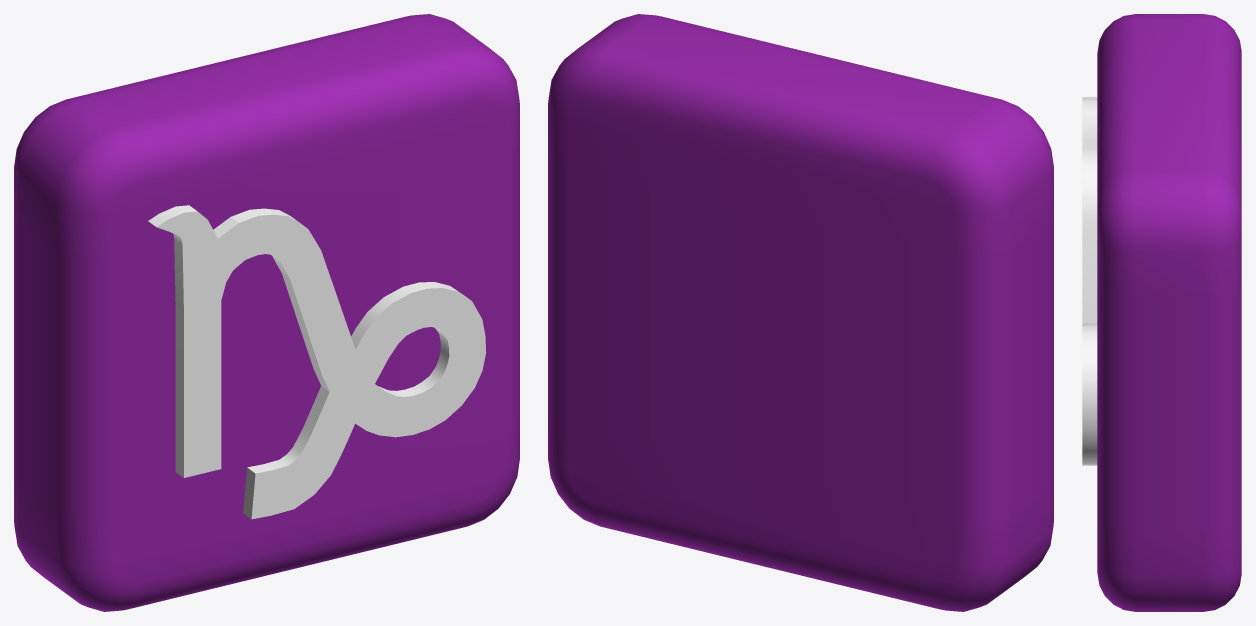
The model's file is capricorn.gltf.
3 views of the same model, side by side, from view 1: azimuth 30°, elevation 25°; view 2: azimuth 150°, elevation 25°; view 3: azimuth 270°, elevation 25° (orthographic). The views are drawn at different scales.
Parts seen in each view (by area): view 1: Cube.6408; view 2: Cube.6408; view 3: Cube.6408.
Part boxes in pixels (left/top/right/bottom): Cube.6408: left=14, top=14, right=519, bottom=611; Cube.6408: left=548, top=14, right=1053, bottom=611; Cube.6408: left=1082, top=14, right=1241, bottom=611.
Size of the model in its own units: 2.2 by 2.2 by 0.73.
1 material, 1 textured.
